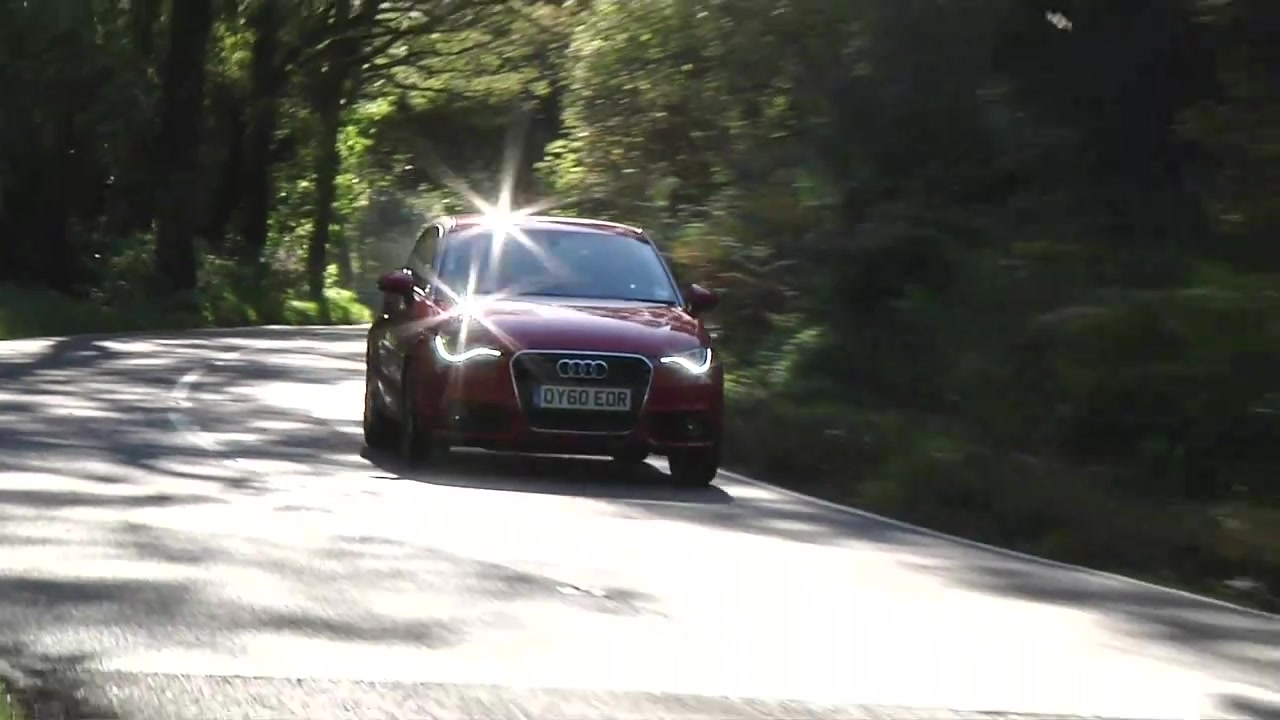car: (361, 215, 732, 492)
